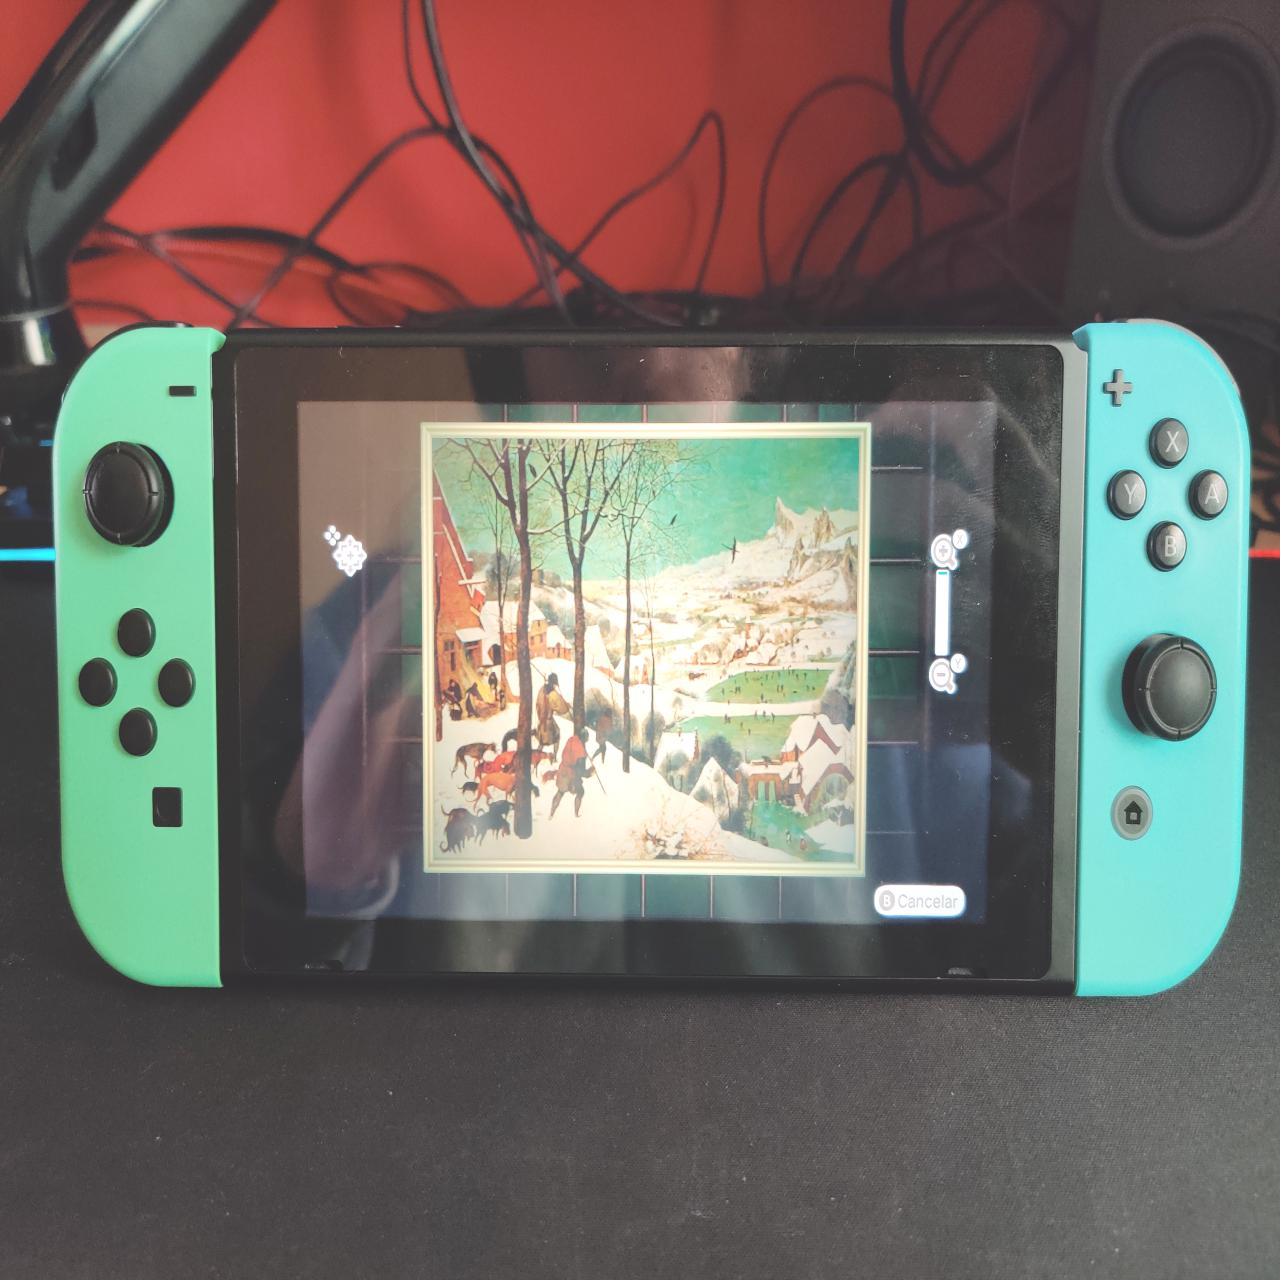HunterSnow: (436, 440, 858, 869)
